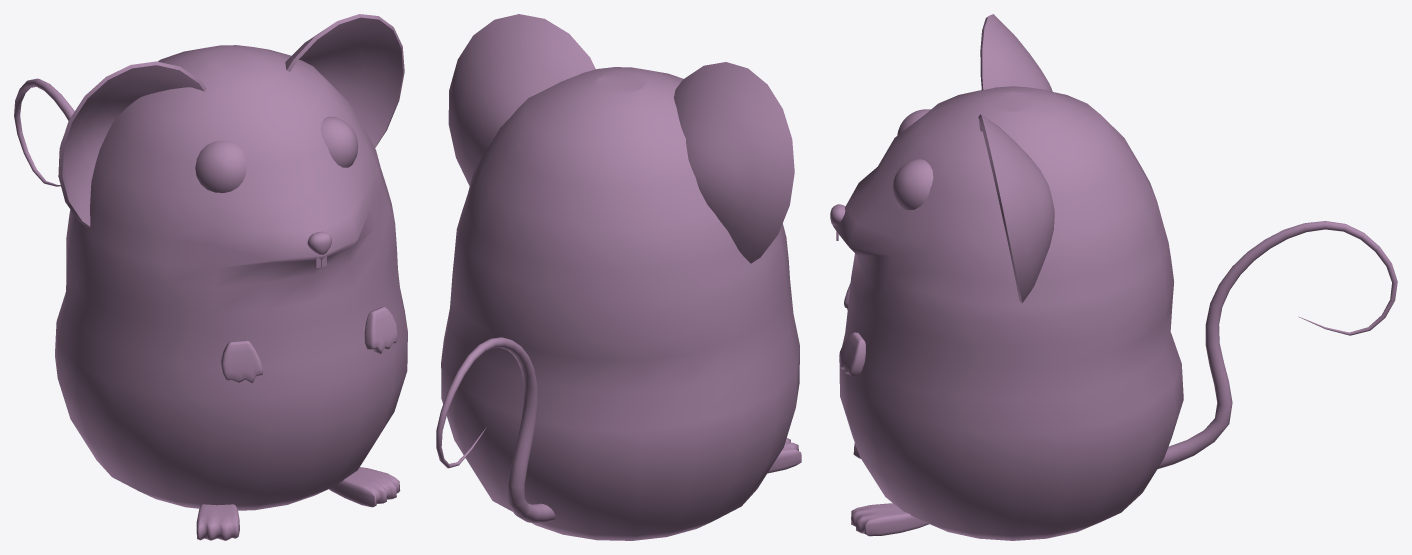
The model's file is Rat_Group.fbx.
3 views of the same model, side by side, from view 1: azimuth 30°, elevation 25°; view 2: azimuth 150°, elevation 25°; view 3: azimuth 270°, elevation 25° (orthographic). The views are drawn at different scales.
Parts seen in each view (by area): view 1: RatTorso, RatEars, RatEye2, RatLeftFoot, RatRightFoot, RatRightArm, RatEye1, RatTail, RatLeftArm; view 2: RatTorso, RatEars, RatTail, RatRightFoot; view 3: RatTorso, RatEars, RatTail, RatLeftFoot, RatEye1, RatLeftArm.
Part boxes in pixels (bbox=[...]): RatTorso: bbox=[55, 45, 407, 510]; RatEars: bbox=[58, 14, 404, 227]; RatEye2: bbox=[195, 140, 246, 192]; RatLeftFoot: bbox=[329, 467, 400, 507]; RatRightFoot: bbox=[196, 504, 239, 540]; RatRightArm: bbox=[221, 340, 262, 383]; RatEye1: bbox=[320, 116, 358, 167]; RatTail: bbox=[14, 78, 74, 186]; RatLeftArm: bbox=[364, 307, 398, 353]; RatTorso: bbox=[441, 67, 799, 540]; RatEars: bbox=[448, 14, 794, 263]; RatTail: bbox=[436, 337, 555, 522]; RatRightFoot: bbox=[767, 438, 801, 473]; RatTorso: bbox=[833, 86, 1183, 540]; RatEars: bbox=[978, 14, 1054, 303]; RatTail: bbox=[1157, 221, 1397, 469]; RatLeftFoot: bbox=[851, 503, 928, 536]; RatEye1: bbox=[892, 159, 933, 210]; RatLeftArm: bbox=[839, 332, 865, 376].
Bounding box in the file's own units: 1.46 × 1.82 × 2.15.
